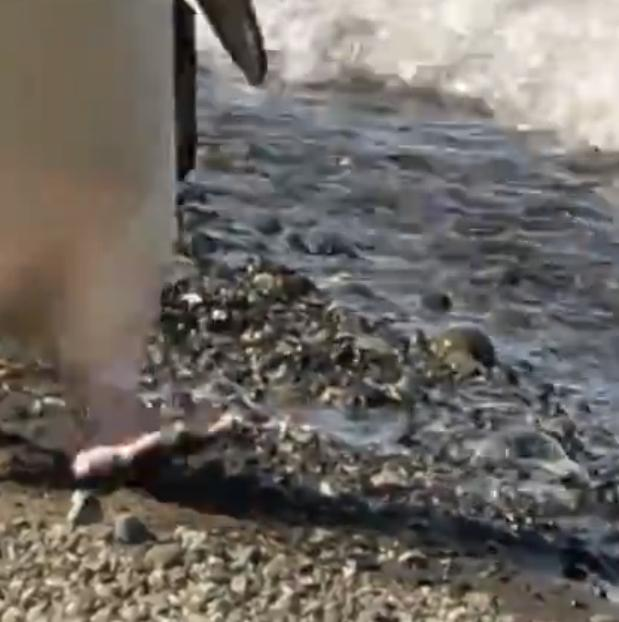Chinstrap Penguin: (0, 0, 317, 513)
